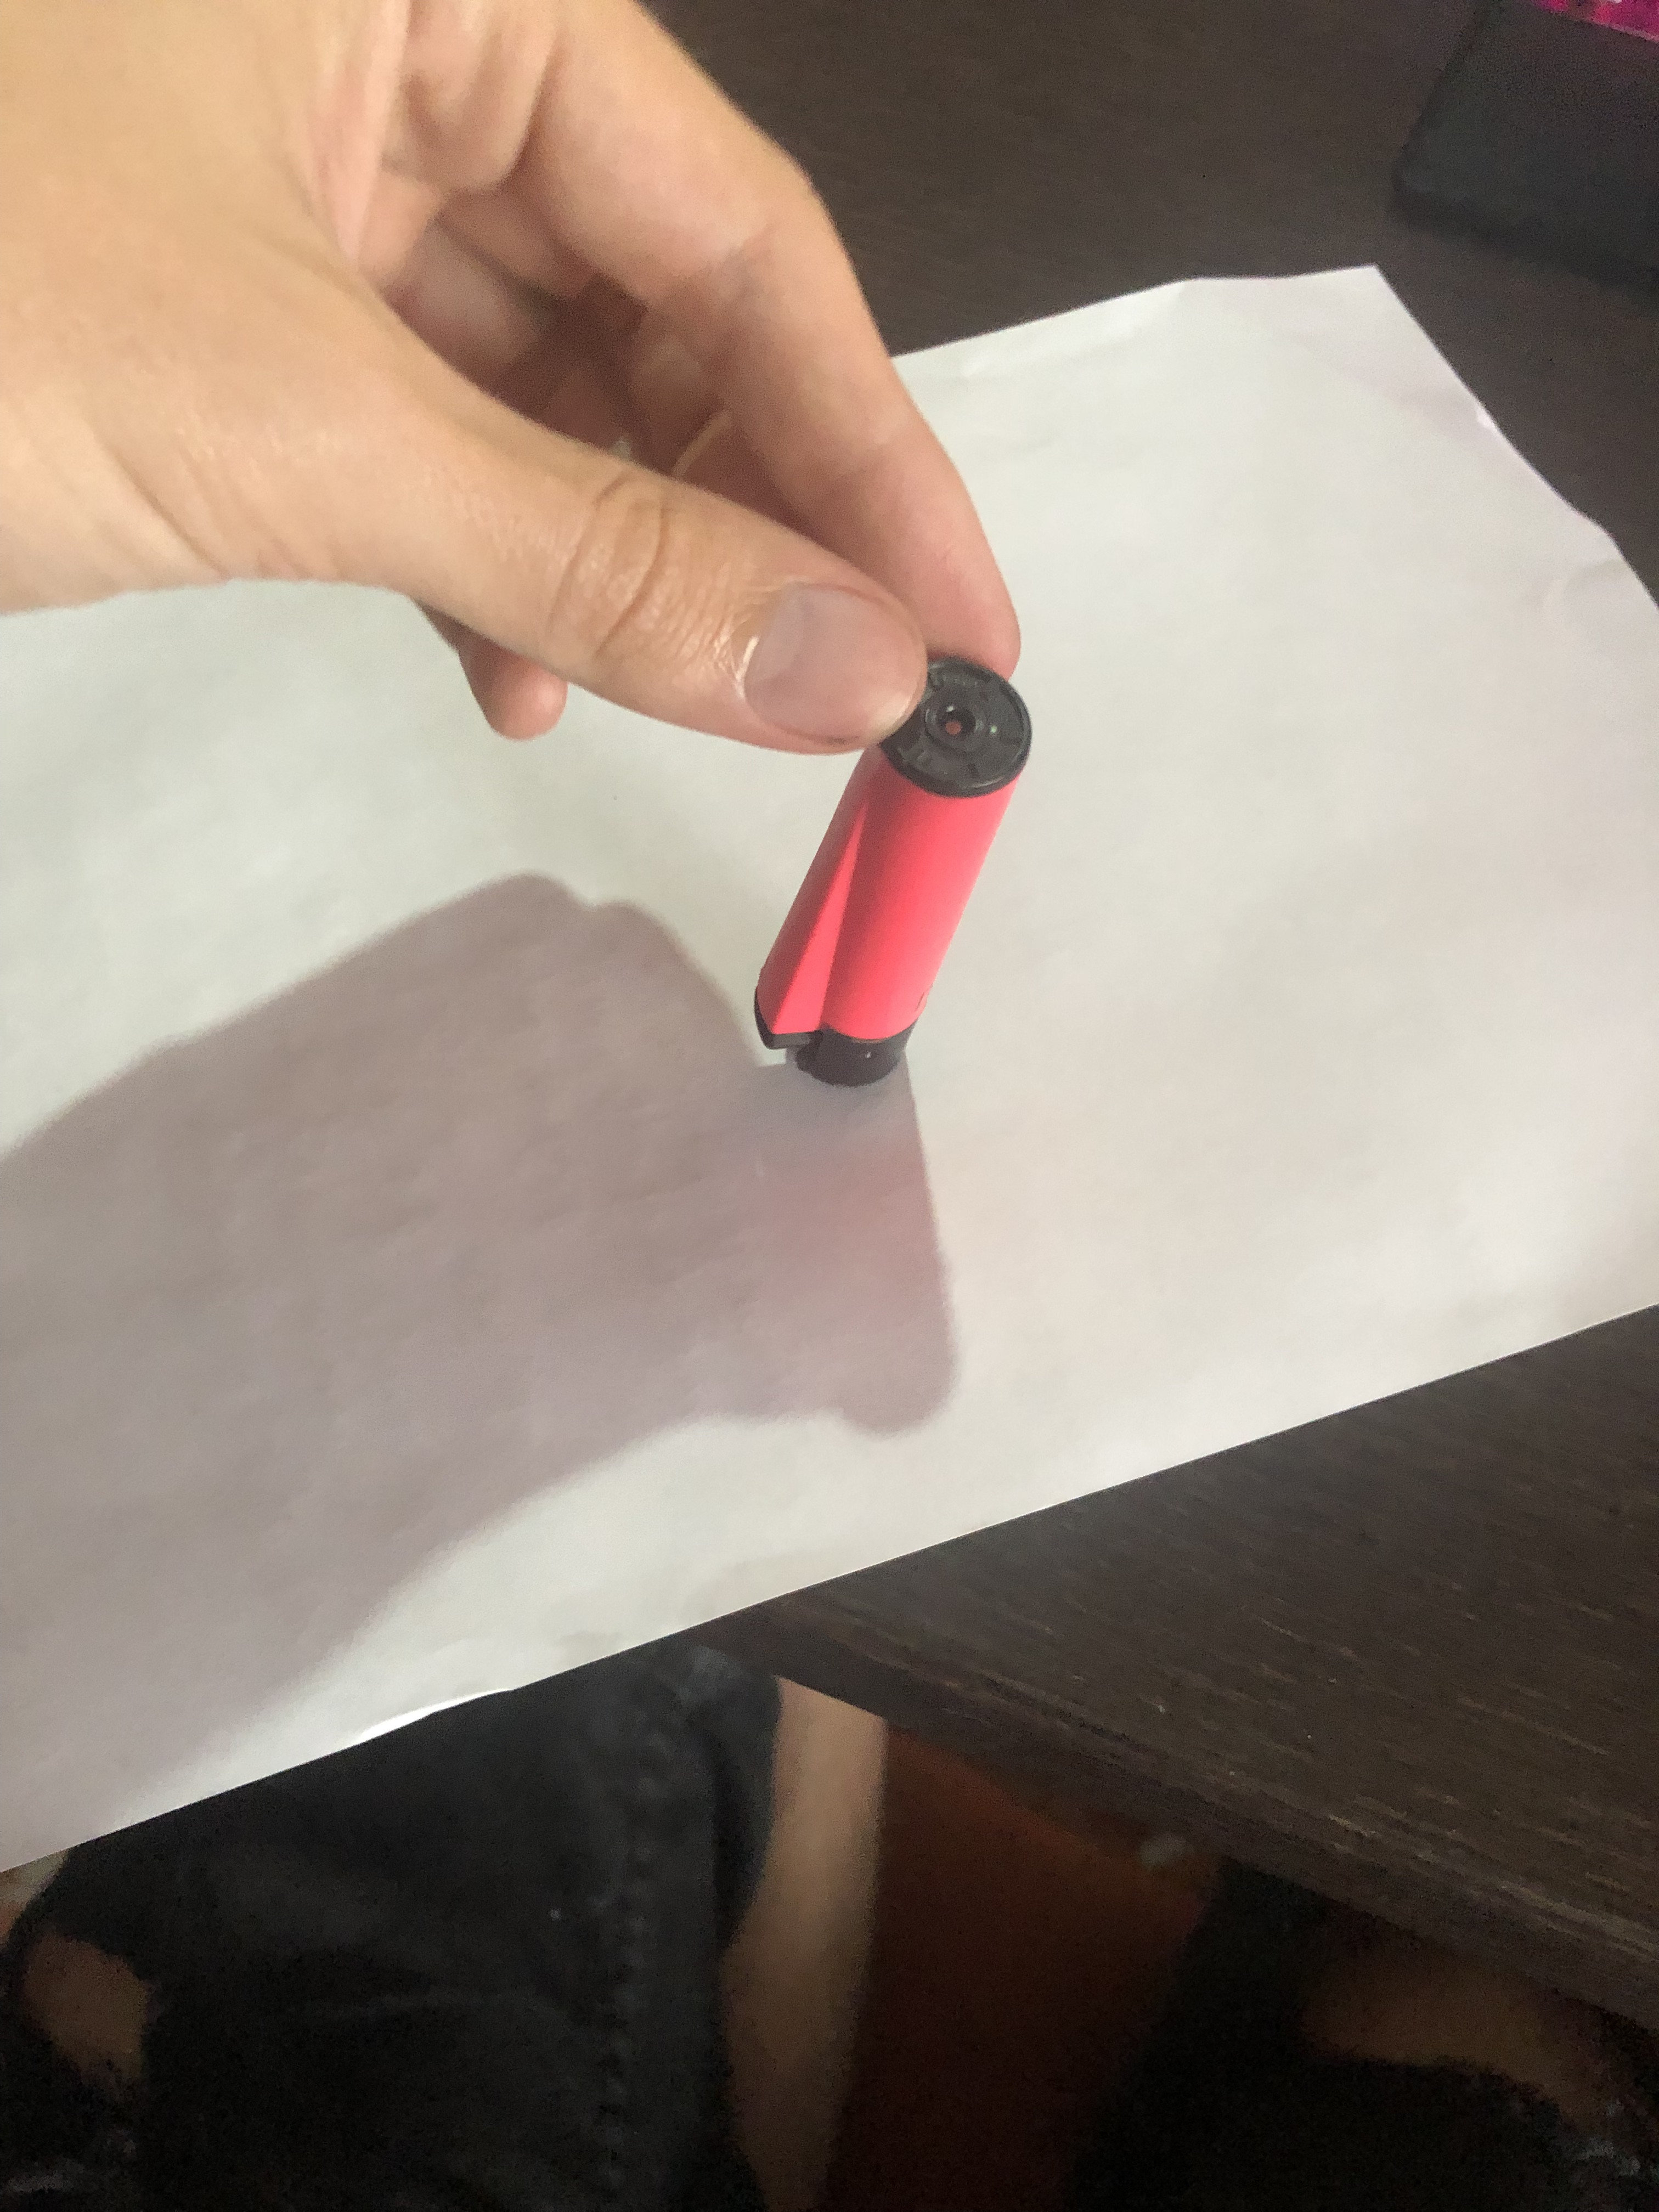Mechero: (739, 657, 1061, 1123)
